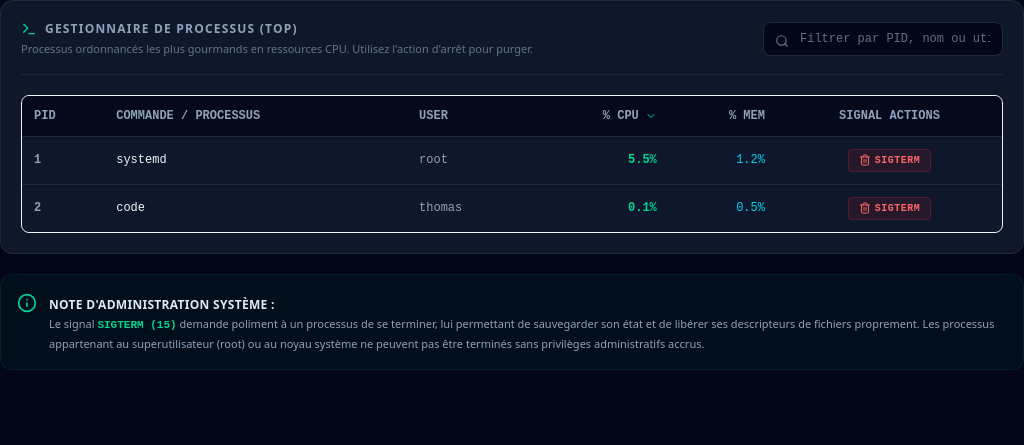
Test: ProcessesTable › affiche une erreur si l'arrêt du processus échoue
Click the button "SIGTERM" in the row of "systemd". click: (889, 160)
box: [848,148,931,172]
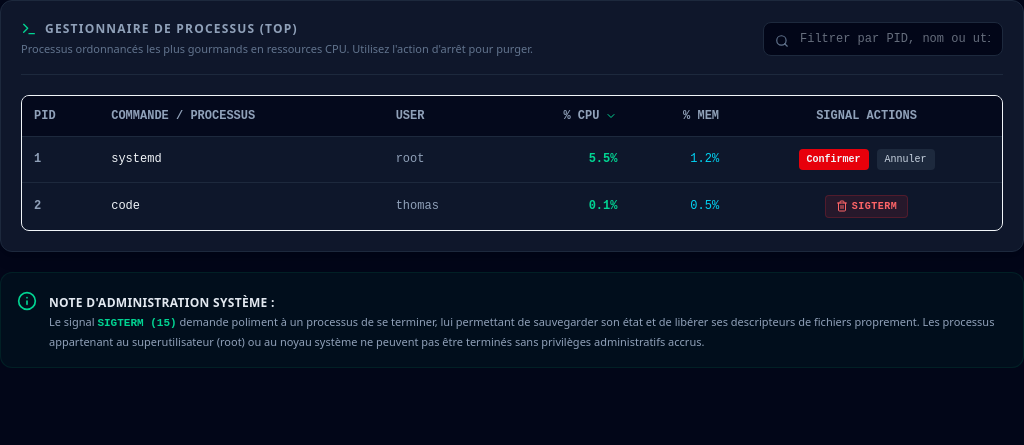
Click the button "Confirmer". click: (834, 159)
box: [798,148,868,170]
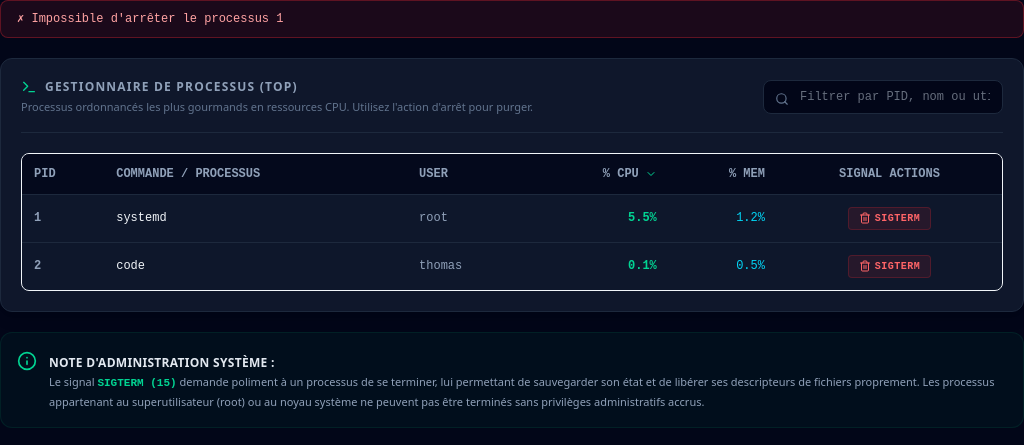
Expected: the text "✗ Impossible d'arrêter le processus 1" is shown, [0,0,1023,38]
